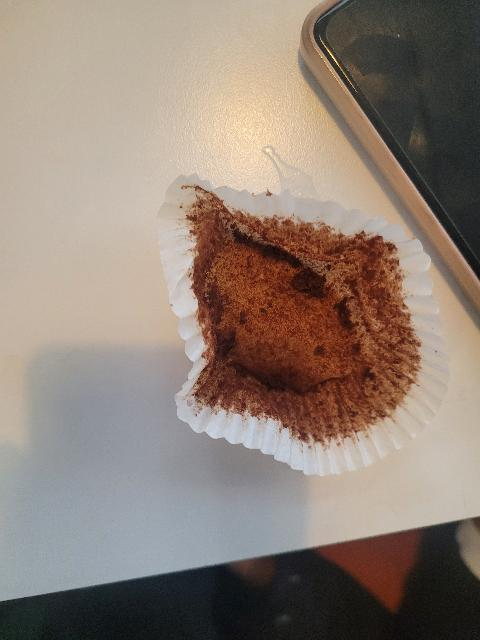Kagit: (154, 162, 456, 490)
